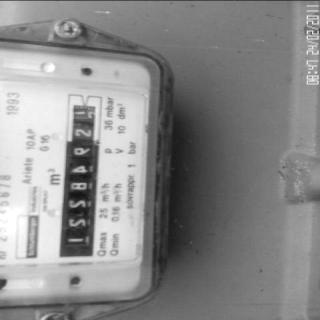2: (64, 235, 85, 247), (72, 108, 88, 118)
3: (68, 198, 88, 211), (68, 216, 87, 228), (74, 127, 95, 137)
5: (70, 163, 90, 174)
9: (68, 181, 89, 192)
:: (72, 145, 92, 156)
